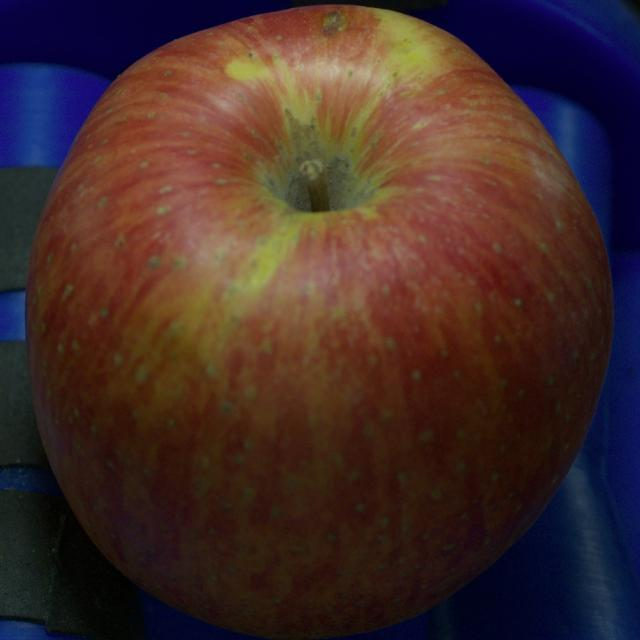apple: (26, 6, 613, 638)
bruise: (323, 10, 346, 34)
